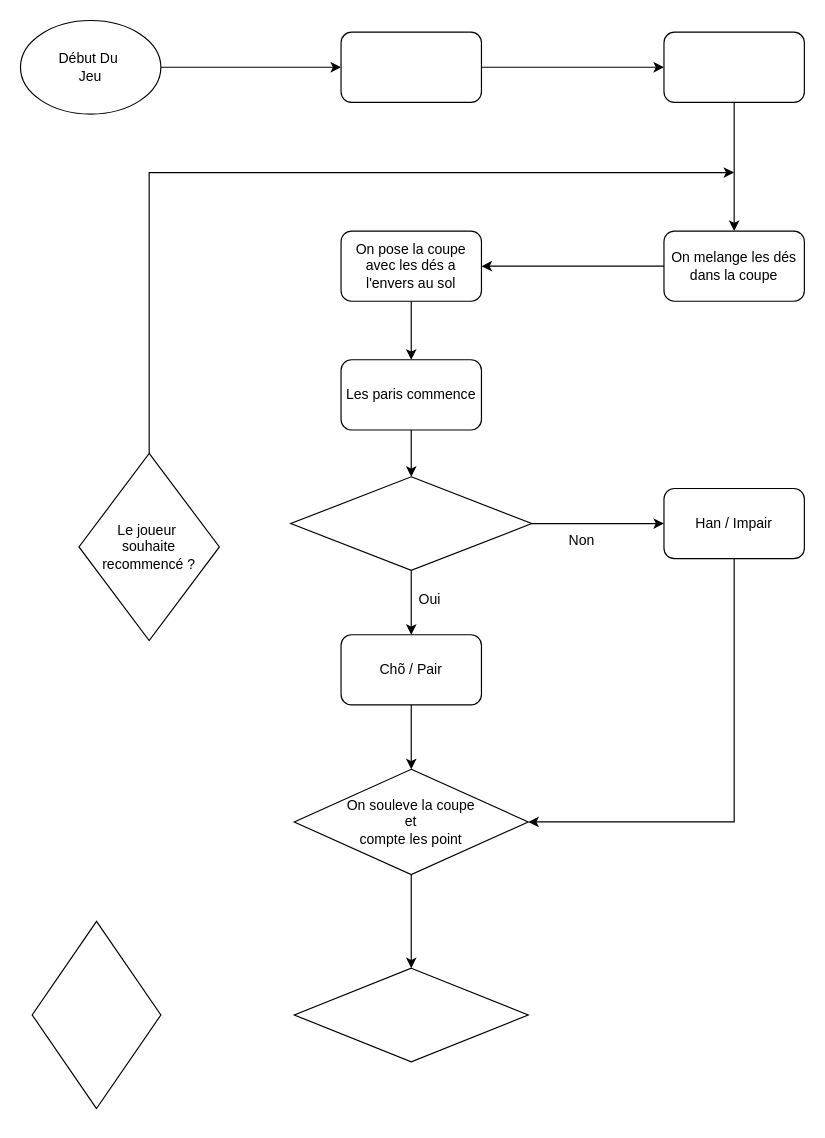
Some shapes in this 825 by 1138 pixel diagram are drawn without their labels. The box of each missing label's shape, as (x1, y1, x2, y2) in pixels:
Le joueur a choisi Pair ?: (290, 476, 532, 570)
Le joueur a t'il gagné ?: (293, 967, 528, 1062)
Le Maitre du jeu montre les dés dans la coupe: (663, 31, 804, 102)
Prendre une coupe ainsi que 2 dés: (340, 31, 481, 102)
